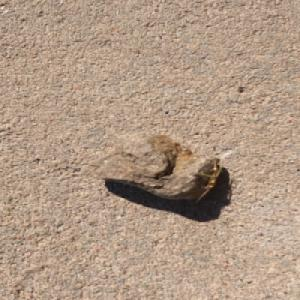Rock: (79, 130, 224, 201)
